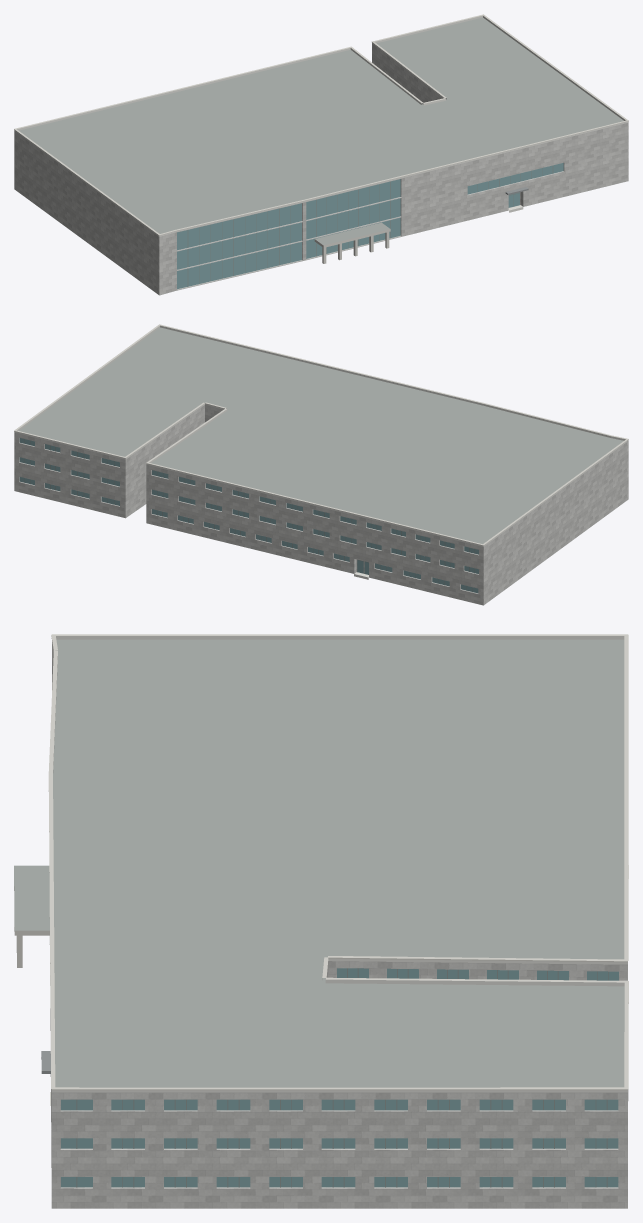
3 views of the same model, one above another, from view 1: azimuth 30°, elevation 25°; view 2: azimuth 150°, elevation 25°; view 3: azimuth 270°, elevation 25° (orthographic). The views are drawn at different scales.
Parts seen in each view (by area): view 1: b115951752__roof, b115951752__wall, b115951752__glass, b115951752__trim, b115951752__parapet, b115951752__frame, b115951752__spandrel; view 2: b115951752__roof, b115951752__wall, b115951752__glass, b115951752__trim, b115951752__parapet, b115951752__frame; view 3: b115951752__roof, b115951752__wall, b115951752__glass, b115951752__trim, b115951752__parapet, b115951752__frame.
Boxes of the visible parts, x1,y1,x2,y2 form: b115951752__roof: (19,17,628,292); b115951752__wall: (14,44,628,295); b115951752__glass: (177,163,563,289); b115951752__trim: (14,14,628,247); b115951752__parapet: (14,15,628,236); b115951752__frame: (187,165,553,286); b115951752__spandrel: (177,197,401,290); b115951752__roof: (19,327,623,603); b115951752__wall: (14,405,628,605); b115951752__glass: (19,438,478,593); b115951752__trim: (14,324,628,545); b115951752__parapet: (14,325,628,546); b115951752__frame: (24,439,474,591); b115951752__roof: (14,639,624,1087); b115951752__wall: (49,641,628,1208); b115951752__glass: (61,968,618,1187); b115951752__trim: (14,634,628,1090); b115951752__parapet: (51,636,627,1092); b115951752__frame: (76,968,608,1187).
Bounding box in the file's own units: 91.01 × 11.55 × 51.97.
Materials: 13 (1 with a texture image).
